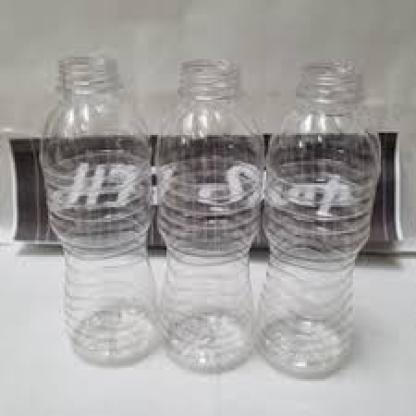Glass Bottle: (254, 55, 381, 382), (35, 51, 154, 370), (153, 54, 265, 375)
